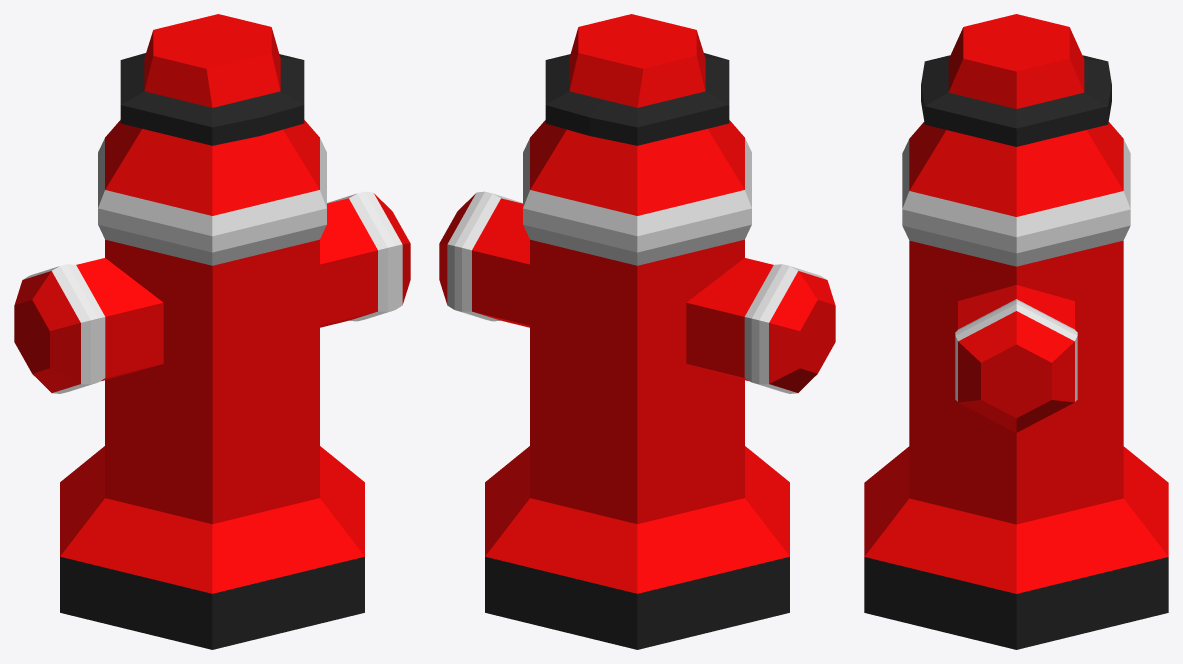
File: FireHydrant.fbx
3 views of the same model, side by side, from view 1: azimuth 30°, elevation 25°; view 2: azimuth 150°, elevation 25°; view 3: azimuth 270°, elevation 25° (orthographic).
Visible parts, largest first — view 1: FireHydrant; view 2: FireHydrant; view 3: FireHydrant.
Boxes of the visible parts, x1,y1,x2,y2 form: FireHydrant: (14,14,410,649); FireHydrant: (439,14,835,649); FireHydrant: (864,14,1168,649).
Bounding box in the file's own units: 18.5 × 26.19 × 13.55.
